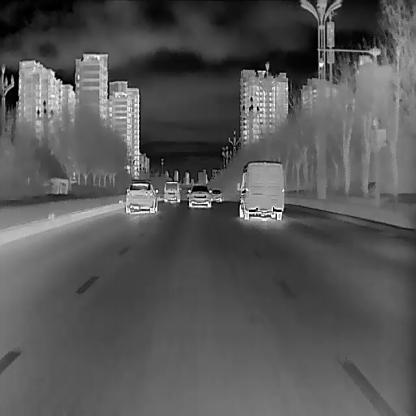car: (236, 160, 284, 220), (125, 180, 158, 214), (187, 185, 210, 209), (163, 181, 180, 202), (211, 189, 221, 202)
